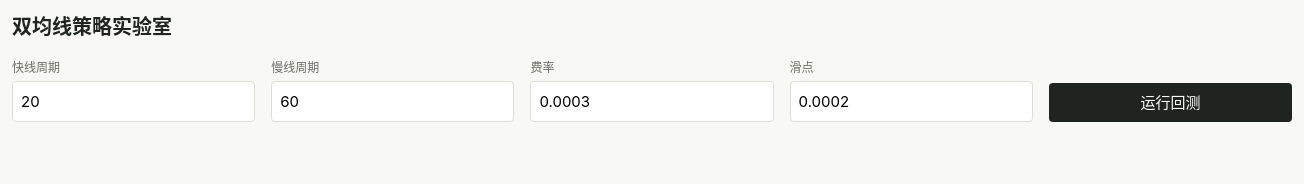
Test: blocks an invalid moving-average pair before requesting
Replace the text in the number field named "快线周期" with "60" at (134, 102), box [12,81,255,122]
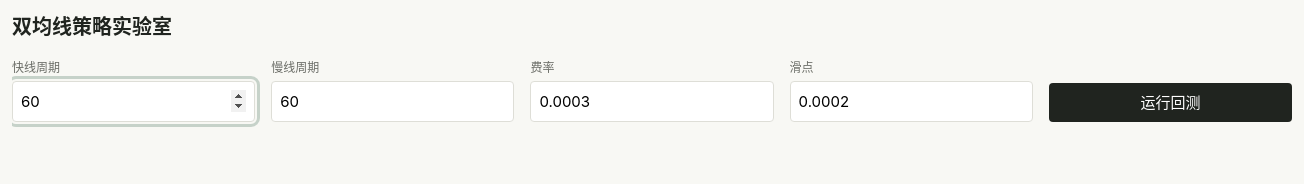
Replace the text in the number field named "慢线周期" with "20" at (393, 102), box [271,81,514,122]
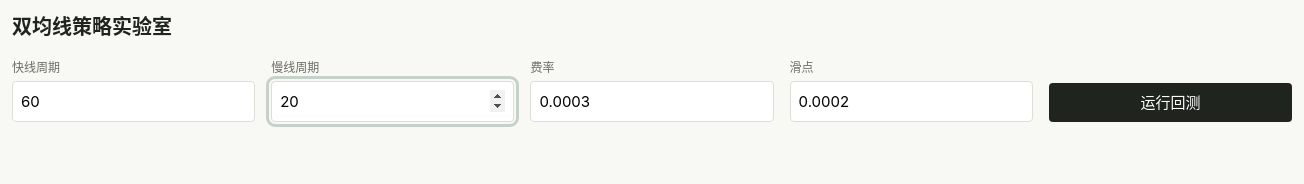
Click the button "运行回测" at (1170, 103), box [1049,83,1292,122]
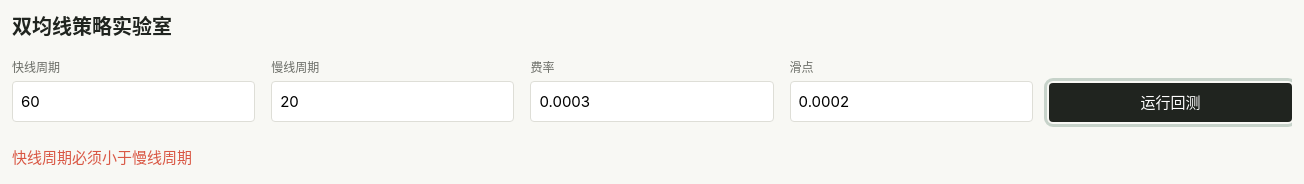
Check: the text "快线周期必须小于慢线周期" is shown, box [12,148,192,167]
